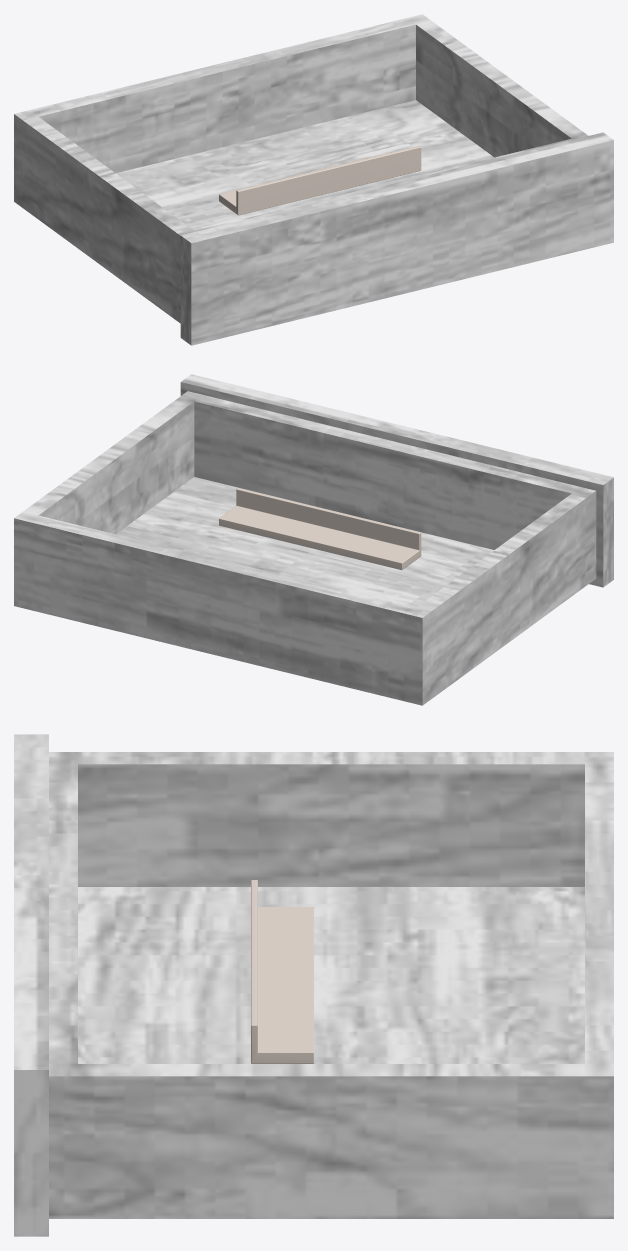
File: Drawer_fb0833fc.obj
3 renders of one model, top to bottom at view 1: azimuth 30°, elevation 25°; view 2: azimuth 150°, elevation 25°; view 3: azimuth 270°, elevation 25°, orthographic. The views are drawn at different scales.
Parts seen in each view (by area): view 1: Mesh_01_c09be44f, handle_3_178mm_01_7b5bf8ef; view 2: Mesh_01_c09be44f, handle_3_178mm_01_7b5bf8ef; view 3: Mesh_01_c09be44f, handle_3_178mm_01_7b5bf8ef.
Part boxes in pixels (x1,y1,x2,y2): Mesh_01_c09be44f: [14, 14, 613, 345]; handle_3_178mm_01_7b5bf8ef: [219, 145, 421, 215]; Mesh_01_c09be44f: [14, 374, 613, 705]; handle_3_178mm_01_7b5bf8ef: [219, 488, 421, 570]; Mesh_01_c09be44f: [14, 734, 613, 1236]; handle_3_178mm_01_7b5bf8ef: [251, 880, 313, 1063].
Bounding box in the file's own units: 0.41 × 0.095 × 0.31.
